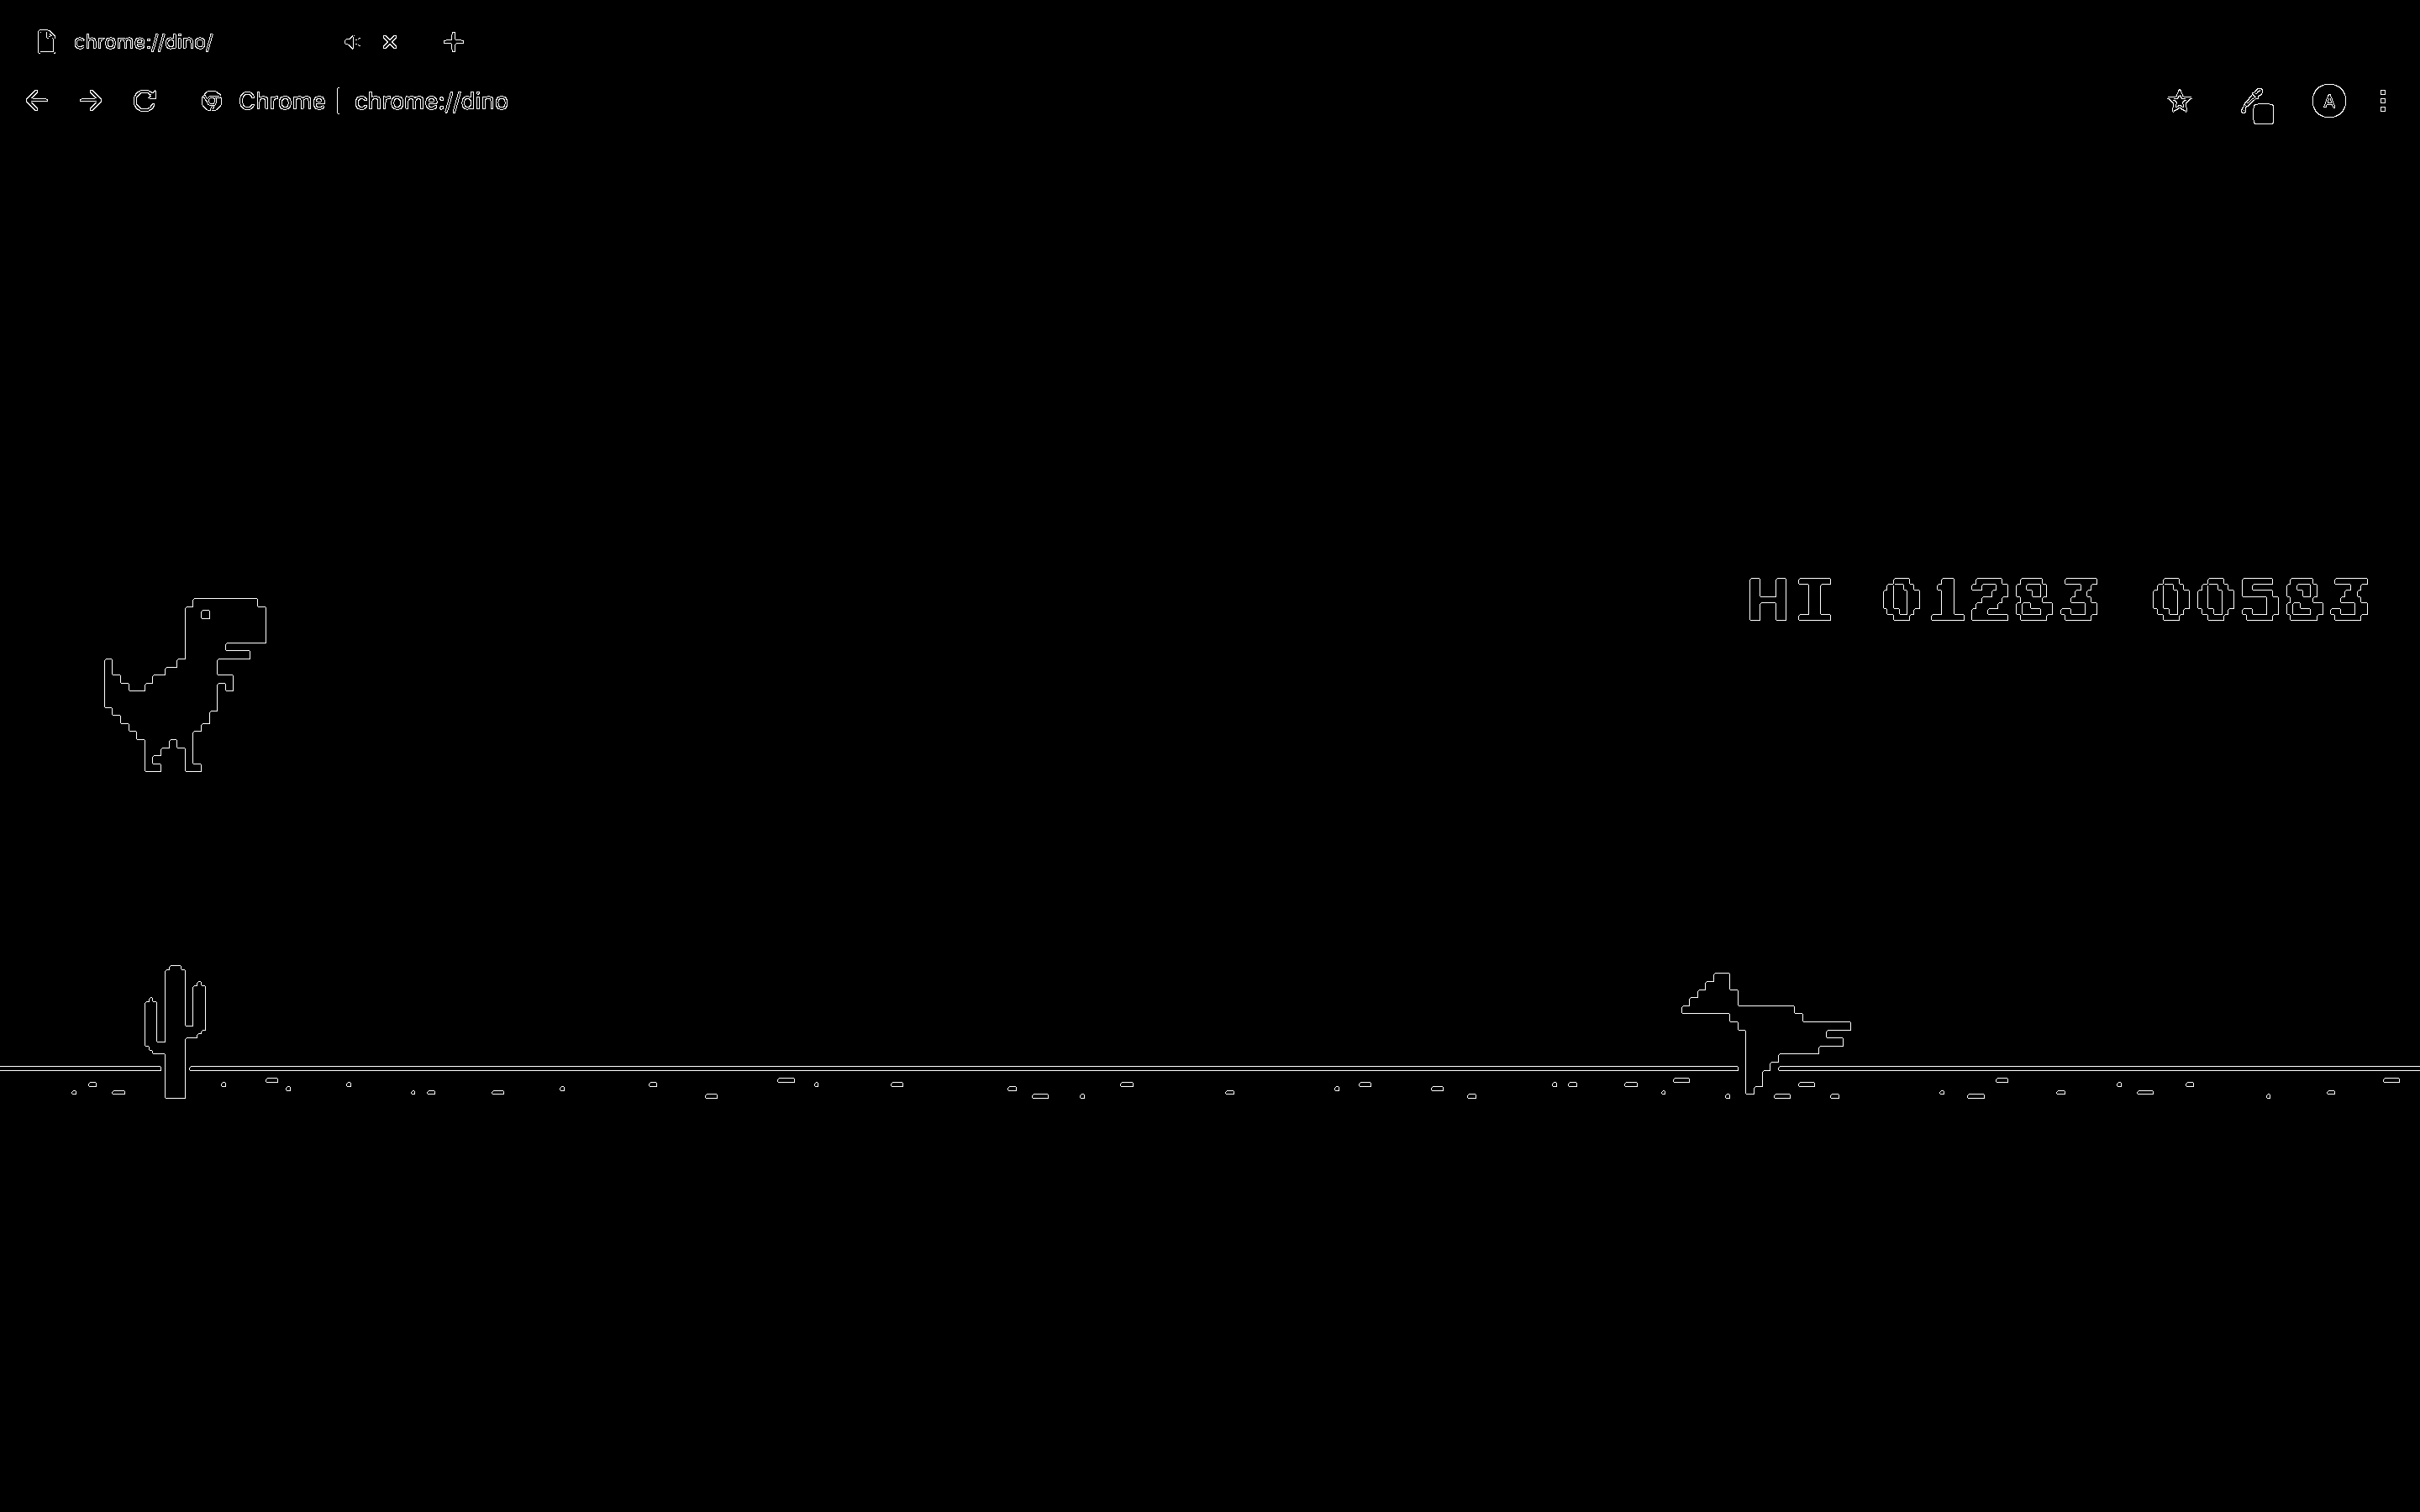Bird: (1681, 972, 1856, 1092)
Cactus: (134, 965, 220, 1097)
Dino: (110, 603, 267, 773)
